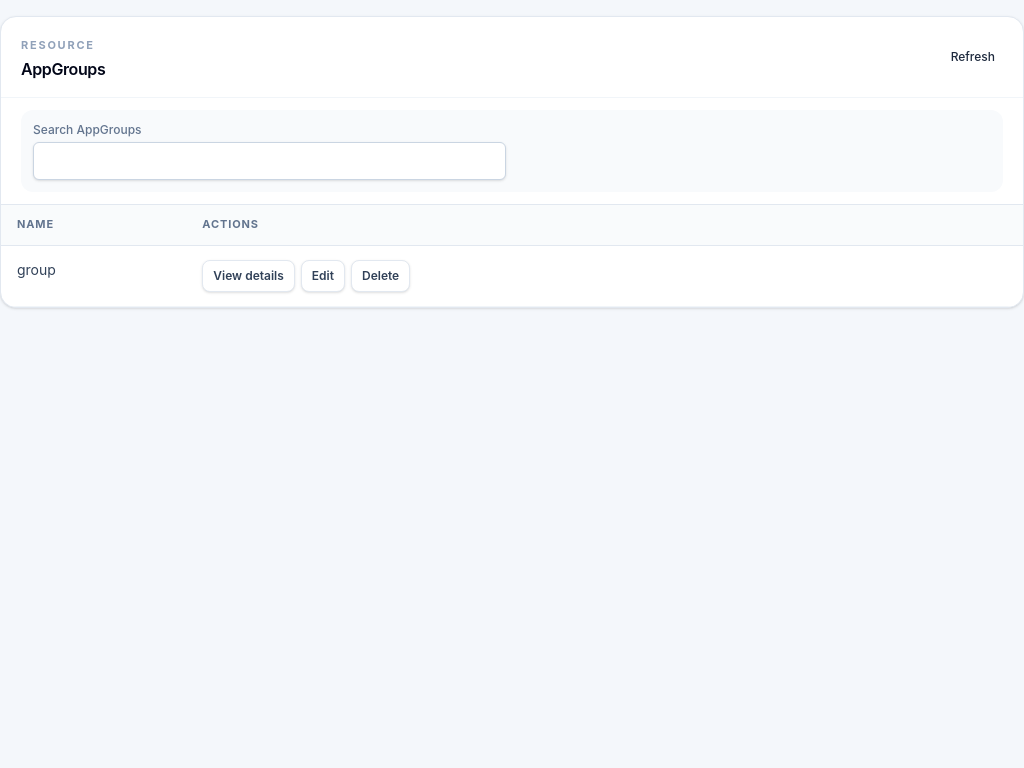
it: resource list usability › opens editing in a stable workspace and saves through the existing mutation path
The image size is (1024, 768).
Click the button "Edit".
click(323, 276)  # box [301,260,345,292]
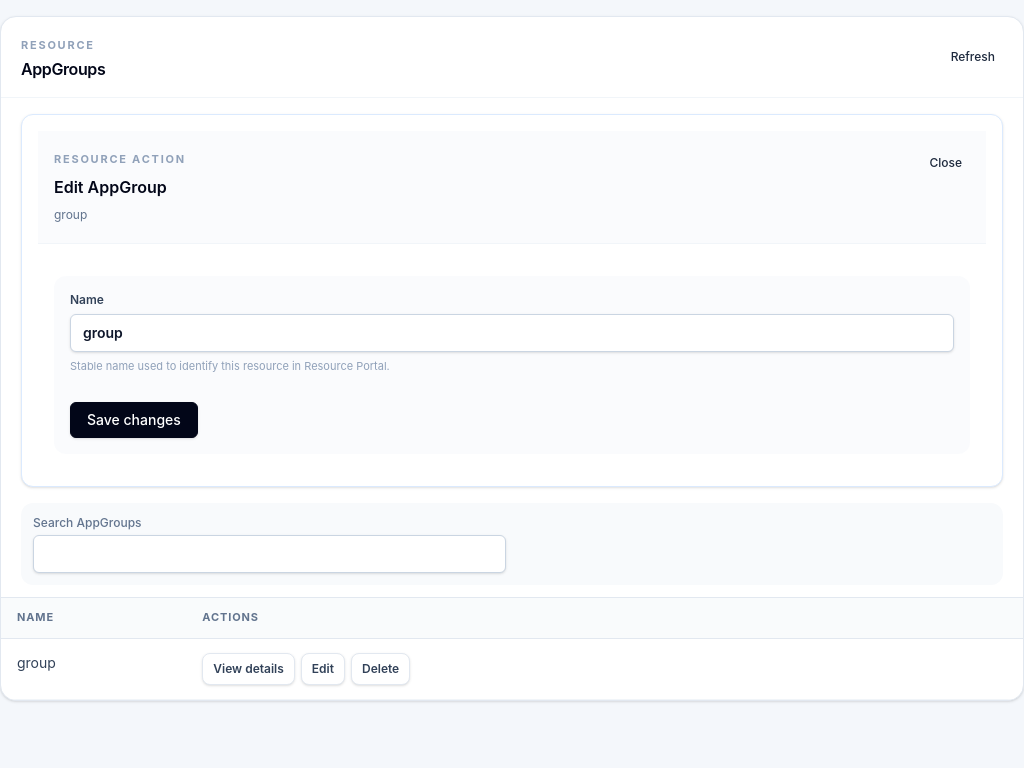
Expected: the heading "Edit AppGroup" is shown, [54,177,167,197]
Expected: the field labelled "Name" holds "group"
Replace the text in the field labelled "Name" with "renamed" at (512, 333), box [70,314,954,352]
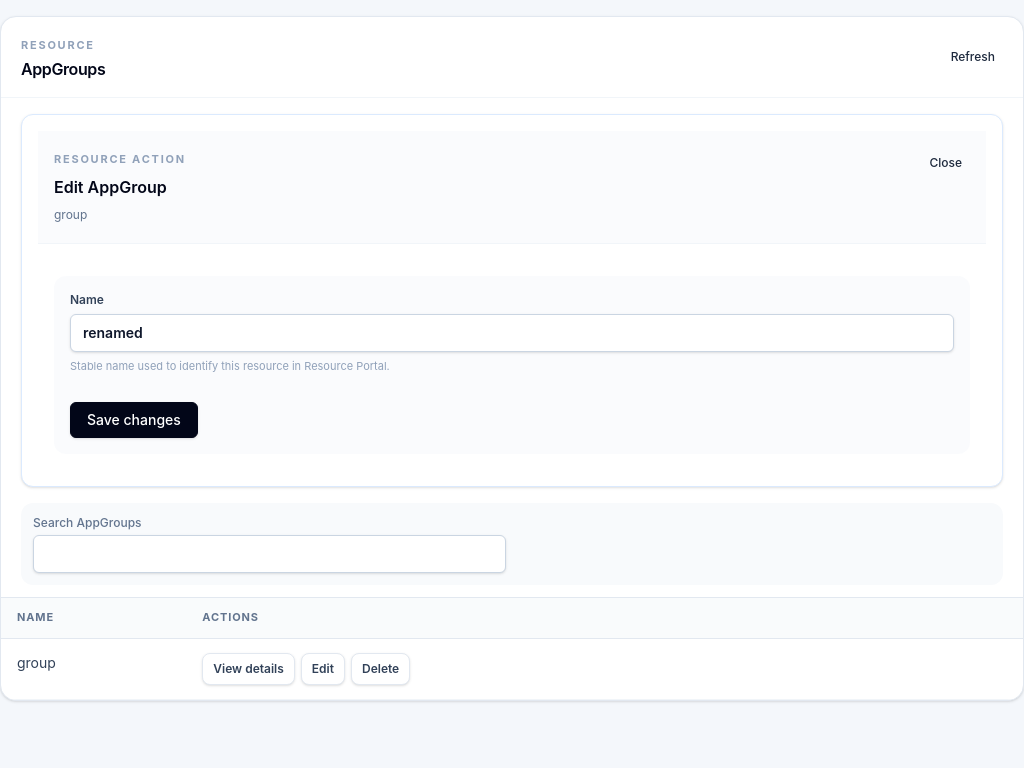
Click the button "Save changes".
click(134, 420)  # box [70,402,198,438]
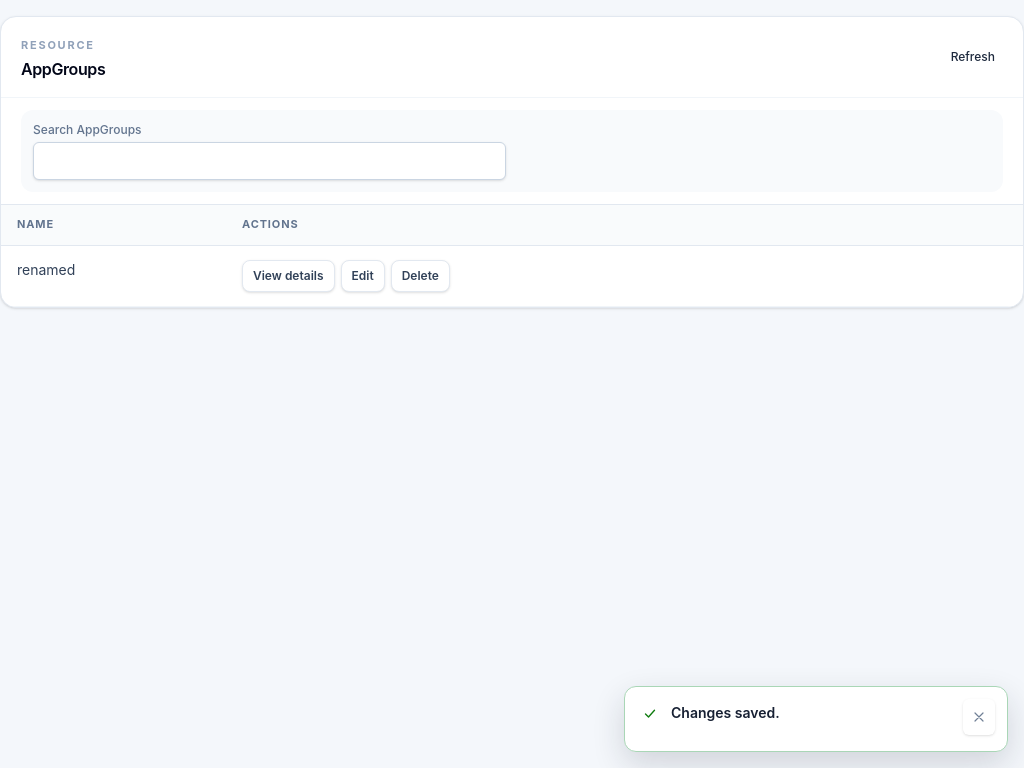
Expected: the message shows "Changes saved", [671,704,780,721]
